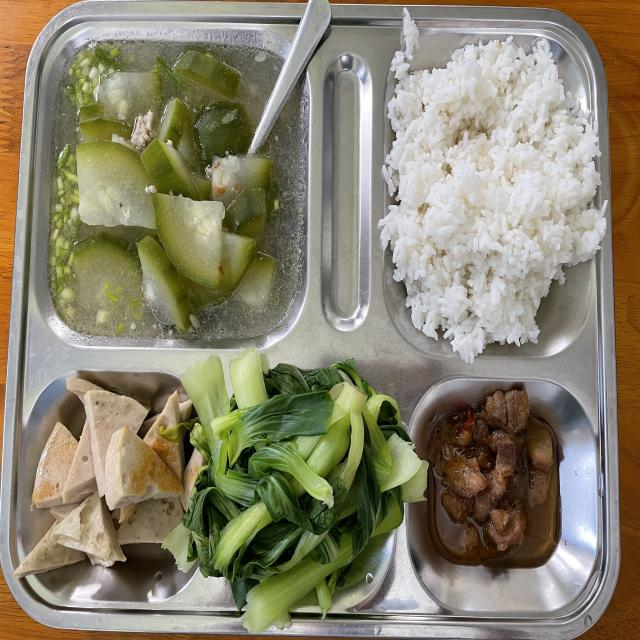com_trang: (386, 39, 602, 338)
thit_kho: (441, 397, 561, 572)
